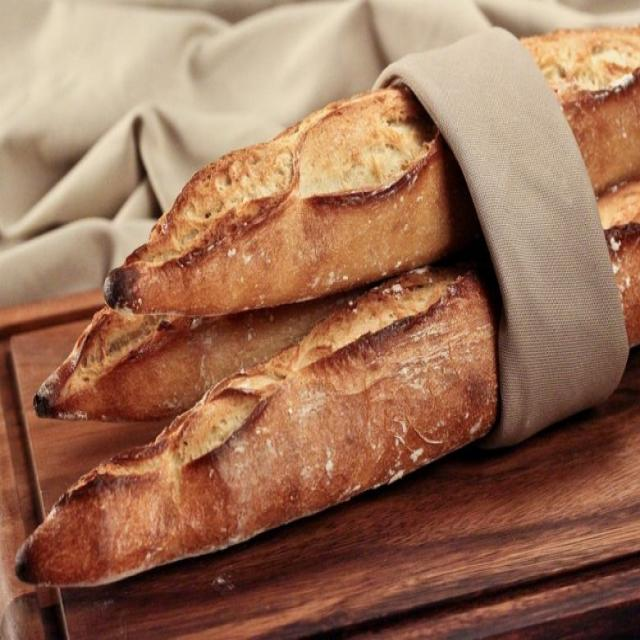Baguette: (16, 266, 496, 585), (110, 85, 478, 314), (34, 293, 356, 418)
